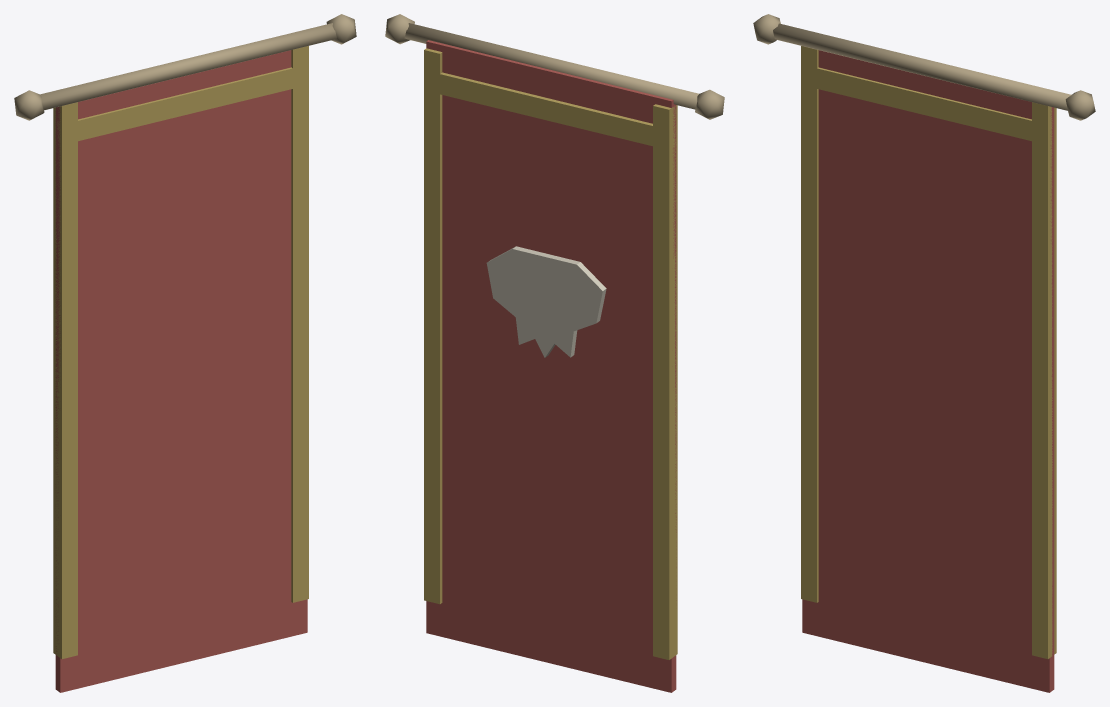
Rendered from blood_zombie_banner_v0.glb.
3 views of the same model, side by side, from view 1: azimuth 30°, elevation 25°; view 2: azimuth 150°, elevation 25°; view 3: azimuth 330°, elevation 25° (orthographic).
Visible parts, largest first — view 1: blood_zombie_banner_v0; view 2: blood_zombie_banner_v0; view 3: blood_zombie_banner_v0.
Boxes of the visible parts, x1,y1,x2,y2 form: blood_zombie_banner_v0: [14, 14, 356, 692]; blood_zombie_banner_v0: [385, 14, 724, 692]; blood_zombie_banner_v0: [753, 14, 1095, 692].
Bounding box in the file's own units: 1.04 × 1.8 × 0.0933.
